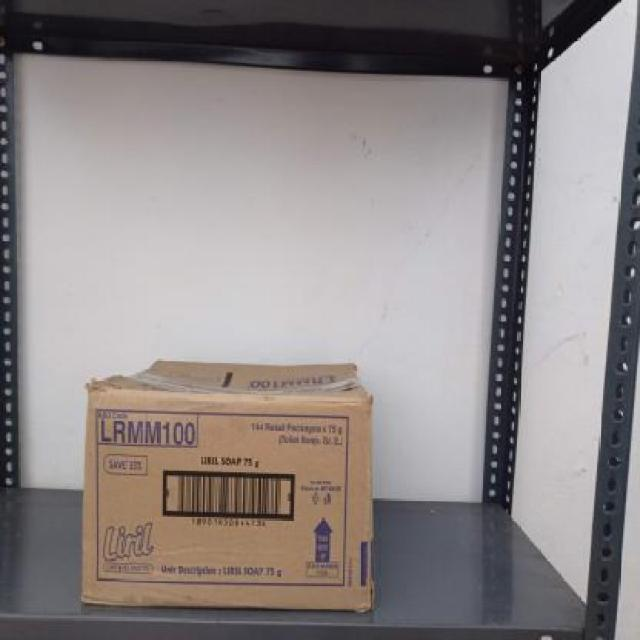box: (82, 388, 376, 614)
